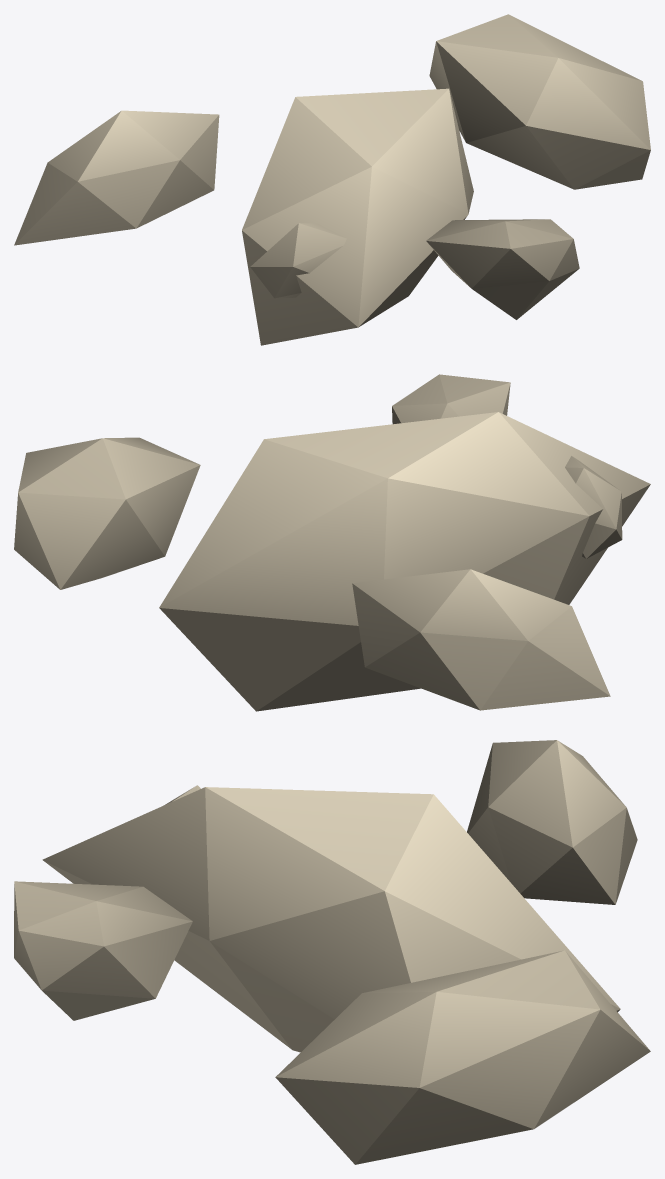
The model's file is rubble.glb.
The picture shows the model from 3 angles, top to bottom: view 1: azimuth 30°, elevation 25°; view 2: azimuth 150°, elevation 25°; view 3: azimuth 270°, elevation 25°; orthographic projection. The views are drawn at different scales.
Visible parts, largest first — view 1: Rubble; view 2: Rubble; view 3: Rubble.
Boxes of the visible parts, x1=… form: Rubble: x1=14, y1=14, x2=650, y2=345; Rubble: x1=14, y1=374, x2=650, y2=711; Rubble: x1=14, y1=740, x2=650, y2=1164.
Size of the model in its own units: 0.2602 by 0.0898 by 0.1923.
